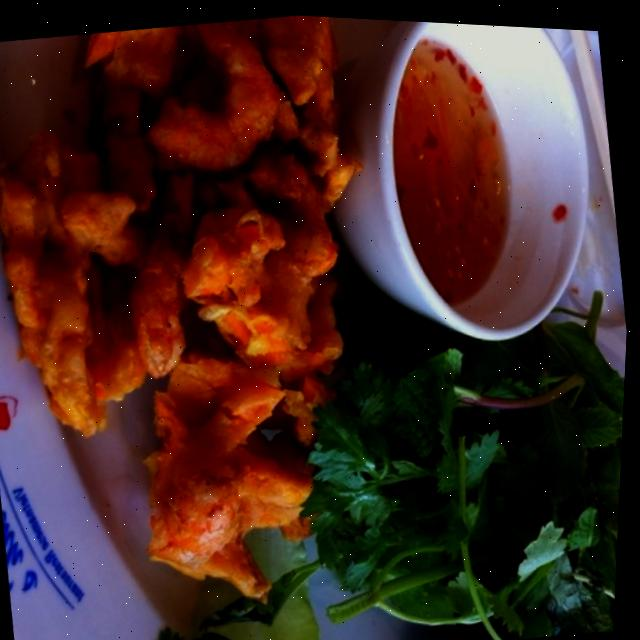炸货点心: (0, 9, 401, 593)
熟制海鲜: (0, 9, 401, 593)
